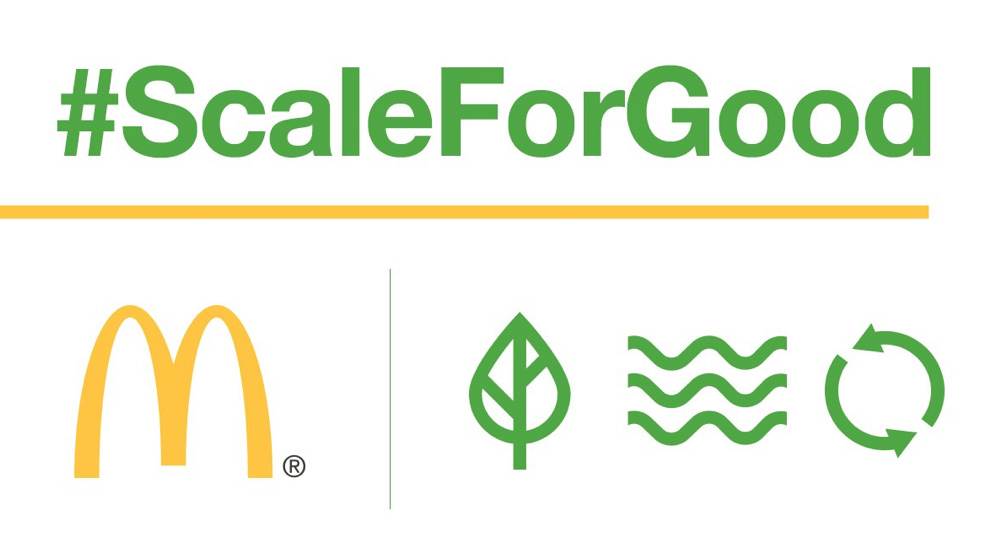mcdonalds: (72, 302, 272, 478)
